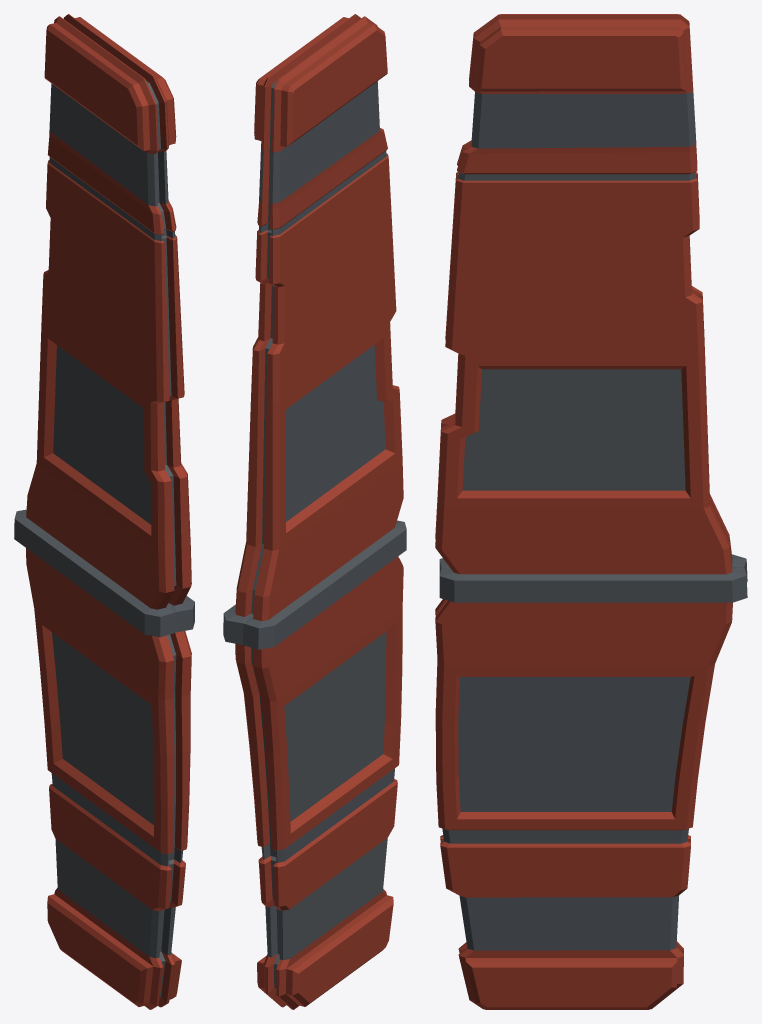
The model's file is Fighter_05_Wing_Left_Red.fbx.
3 views of the same model, side by side, from view 1: azimuth 30°, elevation 25°; view 2: azimuth 150°, elevation 25°; view 3: azimuth 270°, elevation 25° (orthographic). The views are drawn at different scales.
Parts seen in each view (by area): view 1: Fighter_05_Wing_Left_Red; view 2: Fighter_05_Wing_Left_Red; view 3: Fighter_05_Wing_Left_Red.
Boxes of the visible parts, box(x1,y1,x2,y2) form: Fighter_05_Wing_Left_Red: box(14, 14, 194, 1009); Fighter_05_Wing_Left_Red: box(223, 14, 406, 1009); Fighter_05_Wing_Left_Red: box(435, 14, 747, 1009).
Bounding box in the file's own units: 103 × 1811 × 518.
Materials: 1 (1 with a texture image).
